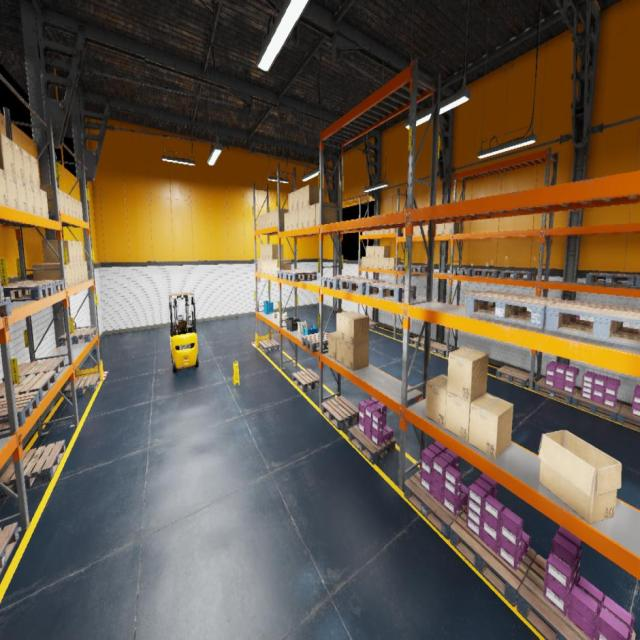box: (538, 429, 621, 524), (468, 393, 514, 459), (447, 346, 488, 402), (446, 392, 486, 442), (426, 374, 448, 428), (32, 264, 67, 288), (345, 314, 369, 345), (42, 240, 74, 263), (42, 262, 72, 286), (344, 341, 368, 370), (0, 132, 15, 176), (336, 311, 358, 341), (40, 184, 60, 212), (316, 202, 337, 226), (5, 172, 18, 210), (12, 141, 24, 181), (24, 181, 36, 215), (21, 148, 32, 185), (16, 177, 27, 212), (304, 185, 319, 208), (0, 168, 8, 207), (30, 154, 39, 188), (40, 189, 49, 219), (34, 186, 42, 217), (276, 259, 290, 276), (336, 337, 344, 365), (328, 332, 336, 360), (269, 244, 283, 260), (276, 208, 288, 226), (466, 291, 480, 306), (272, 259, 285, 275), (444, 222, 460, 234), (59, 189, 66, 213), (63, 192, 69, 215), (68, 194, 74, 217), (309, 204, 315, 227), (70, 263, 76, 285), (303, 206, 309, 228), (389, 258, 400, 270), (71, 197, 77, 218), (379, 246, 390, 257), (298, 208, 304, 228), (72, 240, 77, 262), (298, 187, 303, 209), (384, 257, 393, 269), (74, 263, 79, 283), (288, 192, 293, 212), (436, 223, 444, 235), (293, 210, 298, 229), (76, 199, 80, 219), (78, 262, 82, 282), (76, 241, 80, 261), (294, 190, 298, 210), (84, 261, 88, 280), (79, 242, 83, 261), (284, 212, 288, 231), (79, 202, 83, 220), (81, 262, 85, 280), (288, 212, 292, 230), (374, 246, 380, 258), (390, 228, 402, 233), (422, 226, 428, 236), (416, 226, 422, 236), (272, 210, 275, 227), (379, 258, 384, 268), (366, 246, 371, 256), (266, 258, 269, 274), (266, 244, 269, 260), (370, 246, 374, 258), (260, 214, 263, 229), (278, 316, 285, 322), (272, 312, 279, 318), (269, 212, 272, 226), (269, 260, 272, 274), (279, 312, 287, 317), (374, 258, 378, 268), (370, 258, 374, 268), (366, 258, 370, 268), (362, 258, 366, 268), (258, 259, 261, 272), (284, 317, 290, 323), (266, 212, 268, 228), (277, 313, 283, 318), (263, 213, 265, 228), (264, 259, 266, 274), (403, 227, 406, 237), (261, 259, 263, 273), (263, 245, 265, 259), (261, 245, 263, 259), (258, 216, 260, 229), (385, 229, 390, 233), (375, 230, 380, 234), (366, 231, 371, 235), (362, 231, 367, 235), (413, 227, 415, 237), (370, 231, 376, 234), (380, 230, 385, 233), (436, 224, 436, 235)
forklift: (169, 292, 199, 373)
pallets: (517, 555, 636, 639), (449, 508, 536, 607), (544, 299, 640, 348), (404, 469, 467, 540), (0, 440, 65, 497), (466, 291, 563, 329), (348, 424, 396, 464), (0, 370, 57, 401), (572, 390, 622, 422), (0, 391, 39, 431), (3, 357, 65, 381), (321, 396, 359, 430), (535, 378, 578, 404), (366, 281, 416, 302), (0, 521, 18, 574), (3, 282, 53, 301), (64, 373, 100, 398), (9, 280, 65, 294), (340, 278, 386, 295), (496, 365, 530, 387), (586, 273, 638, 287), (58, 327, 96, 346), (292, 369, 319, 392), (617, 404, 640, 430), (322, 276, 362, 289), (302, 332, 328, 352), (501, 270, 536, 280), (430, 342, 453, 356), (285, 271, 317, 281), (410, 336, 434, 349), (472, 269, 506, 278), (259, 339, 279, 353), (0, 296, 12, 318), (276, 270, 304, 279), (453, 268, 481, 276), (396, 265, 418, 271), (411, 266, 427, 272), (369, 320, 379, 329), (635, 275, 640, 287)
